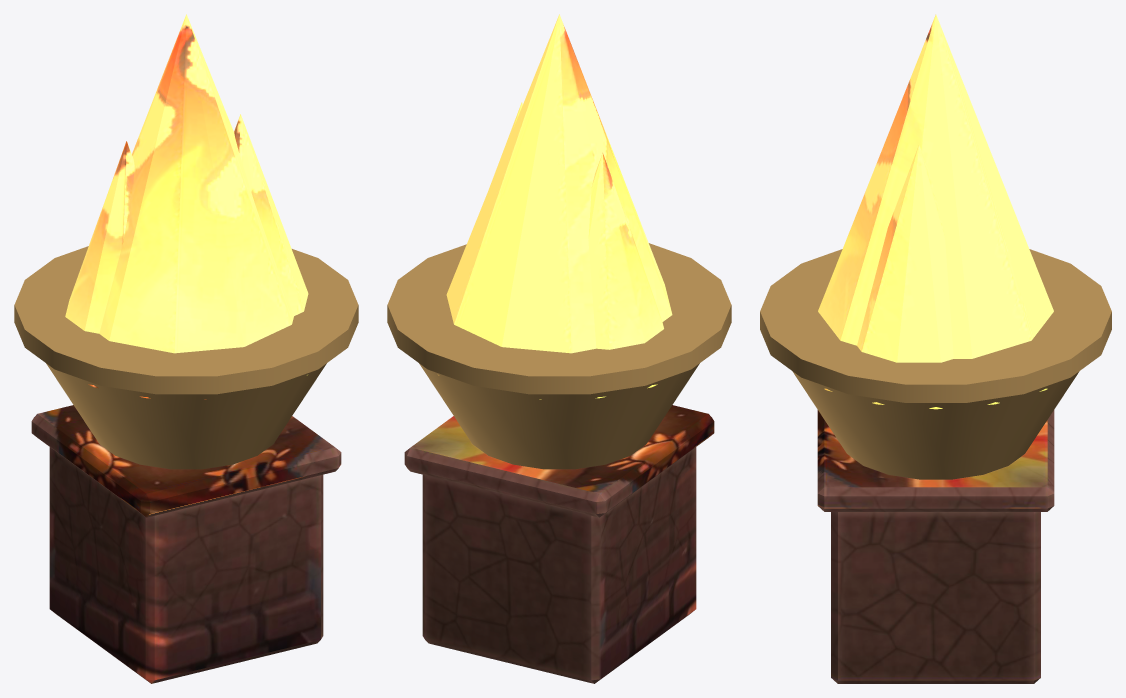
The model's file is brazier.glb.
The picture shows the model from 3 angles, left to right: view 1: azimuth 30°, elevation 25°; view 2: azimuth 150°, elevation 25°; view 3: azimuth 270°, elevation 25°; orthographic projection. The views are drawn at different scales.
Parts seen in each view (by area): view 1: brazier; view 2: brazier; view 3: brazier.
Boxes of the visible parts, x1,y1,x2,y2 form: brazier: (14,14,358,683); brazier: (387,14,731,683); brazier: (760,14,1111,683).
Bounding box in the file's own units: 1.02 × 2.05 × 1.04.
2 materials, 1 textured.
